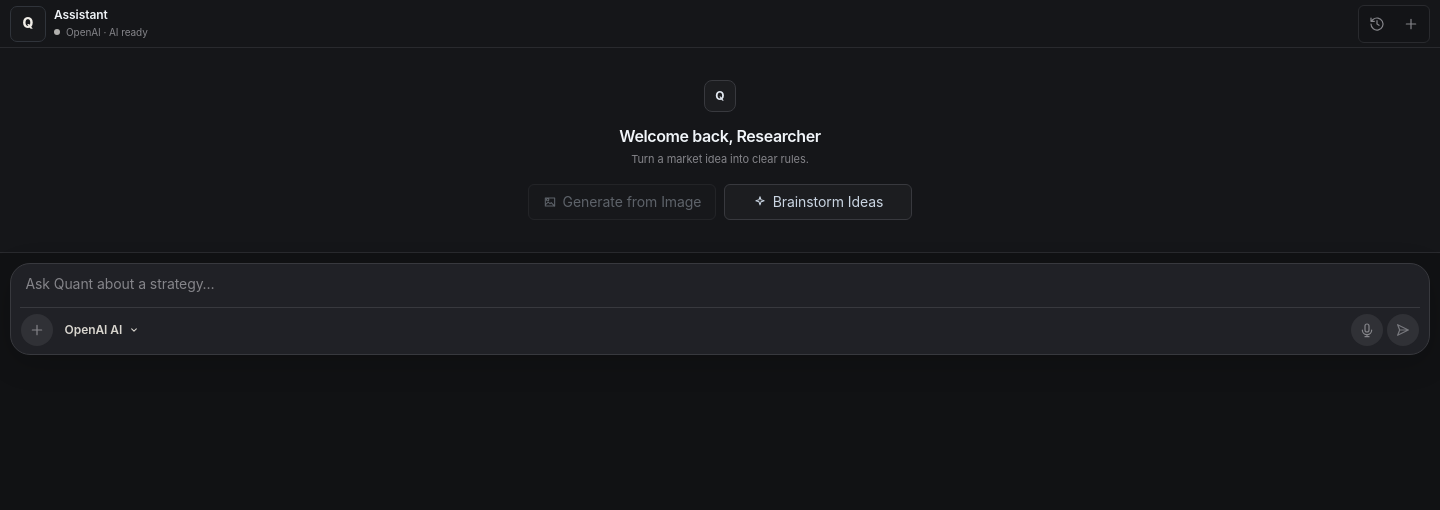
retries an uncertain AI request with the same identity and suppresses duplicate sends
The image size is (1440, 510).
Expected: the text "OpenAI · AI ready" is shown, left=54, top=25, right=148, bottom=40
Click the button named "Conversation history": [1377, 24] box left=1361, top=8, right=1393, bottom=40
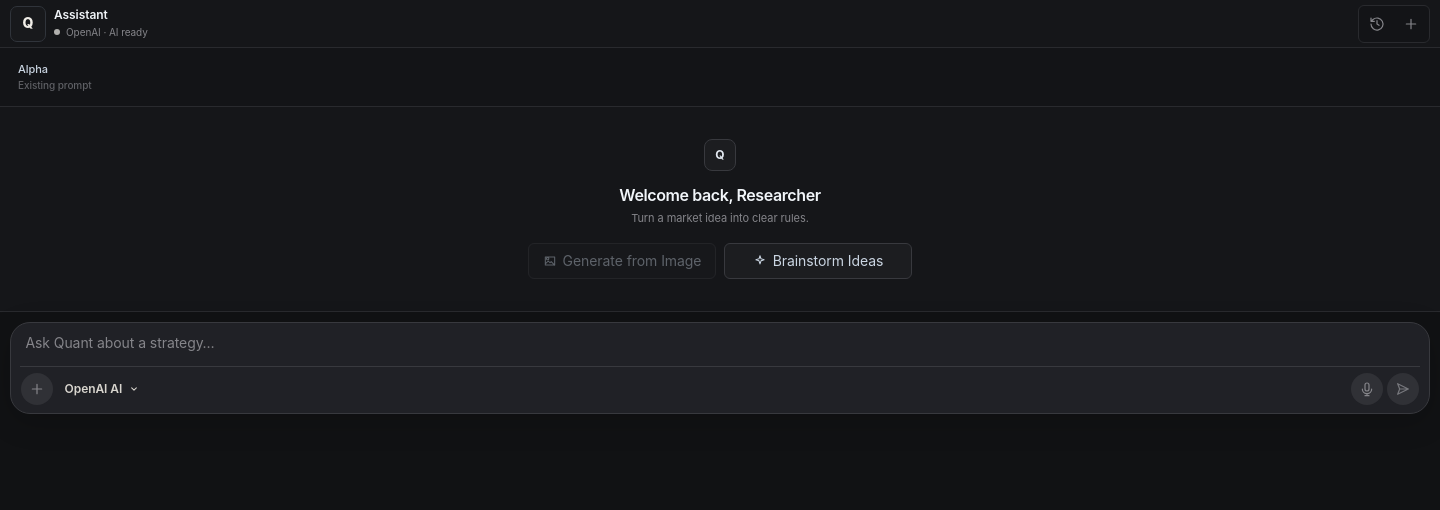
Click the button "Alpha Existing prompt": [55, 85] box left=8, top=56, right=1432, bottom=98
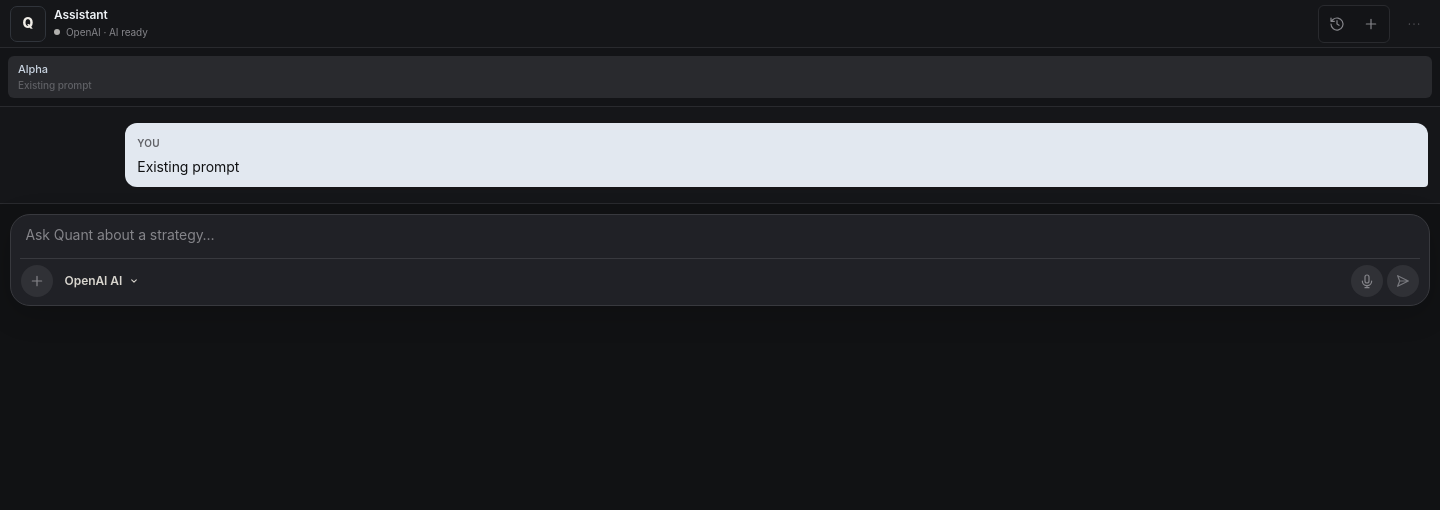
Expected: the text "OpenAI · AI ready" is shown, left=54, top=25, right=148, bottom=40
In the text box named "Research message": [720, 240] box left=20, top=222, right=1420, bottom=258, type "One request"
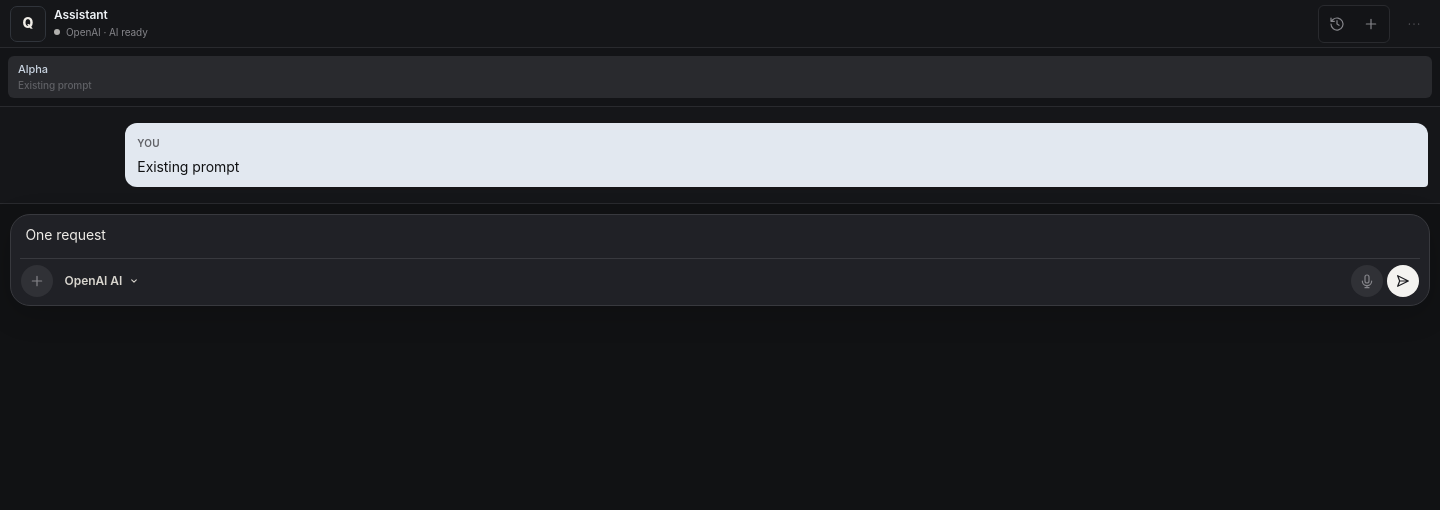
Click the button named "Send to Quant": [1403, 281] box left=1387, top=265, right=1419, bottom=297
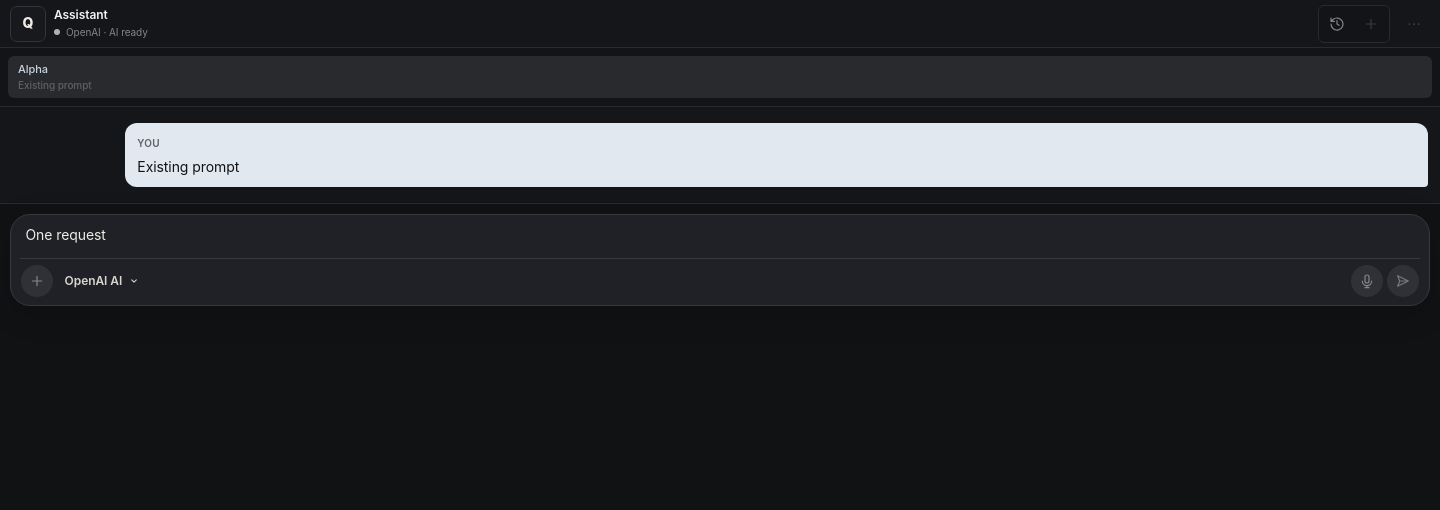
Click the button named "Send to Quant": [1403, 281] box left=1387, top=265, right=1419, bottom=297
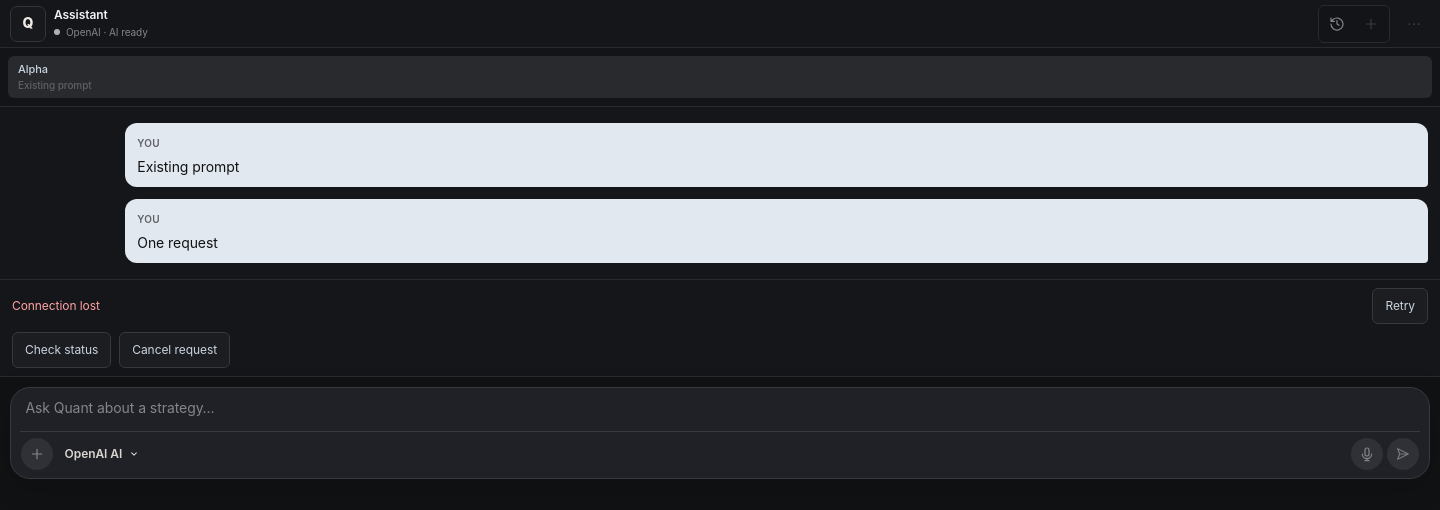
Expected: the message reads "Connection lost", left=12, top=298, right=100, bottom=313
Click the button "Retry": [1400, 306] box left=1372, top=288, right=1428, bottom=324
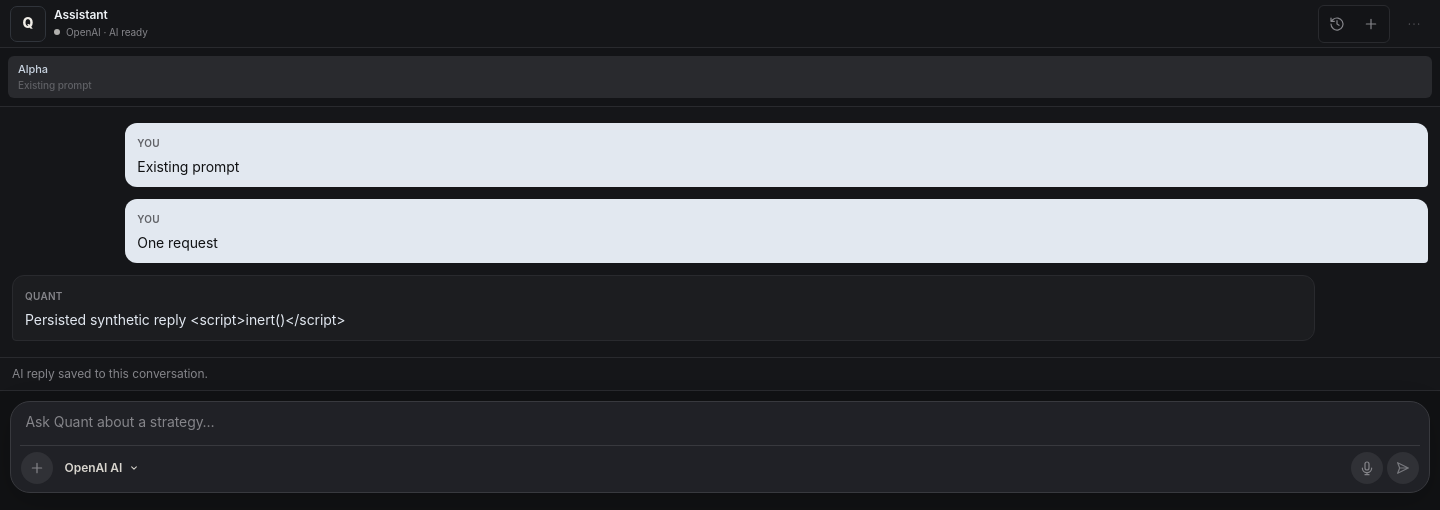
Expected: the text "Persisted synthetic reply <script>inert()</script>" is shown, left=25, top=311, right=346, bottom=328
